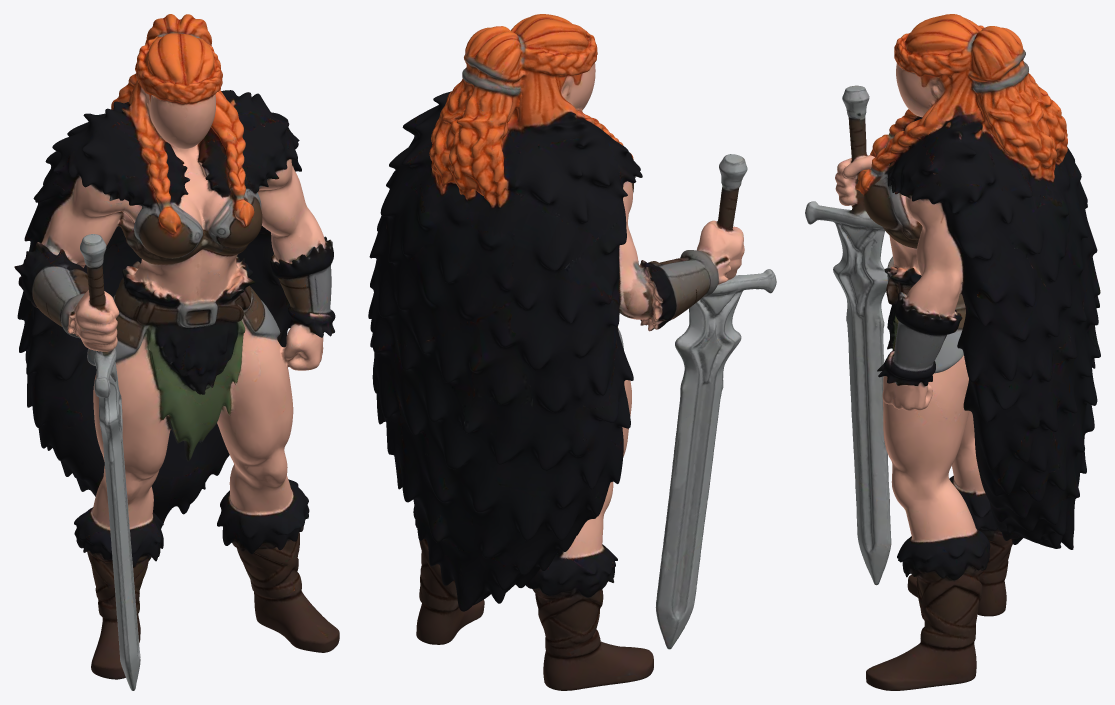
Rendered from barbarianPrincess-optimized.glb.
3 views of the same model, side by side, from view 1: azimuth 30°, elevation 25°; view 2: azimuth 150°, elevation 25°; view 3: azimuth 270°, elevation 25° (orthographic). The views are drawn at different scales.
Bounding box in the file's own units: 0.9541 × 1.9 × 0.8316.
1 material, 1 textured.
